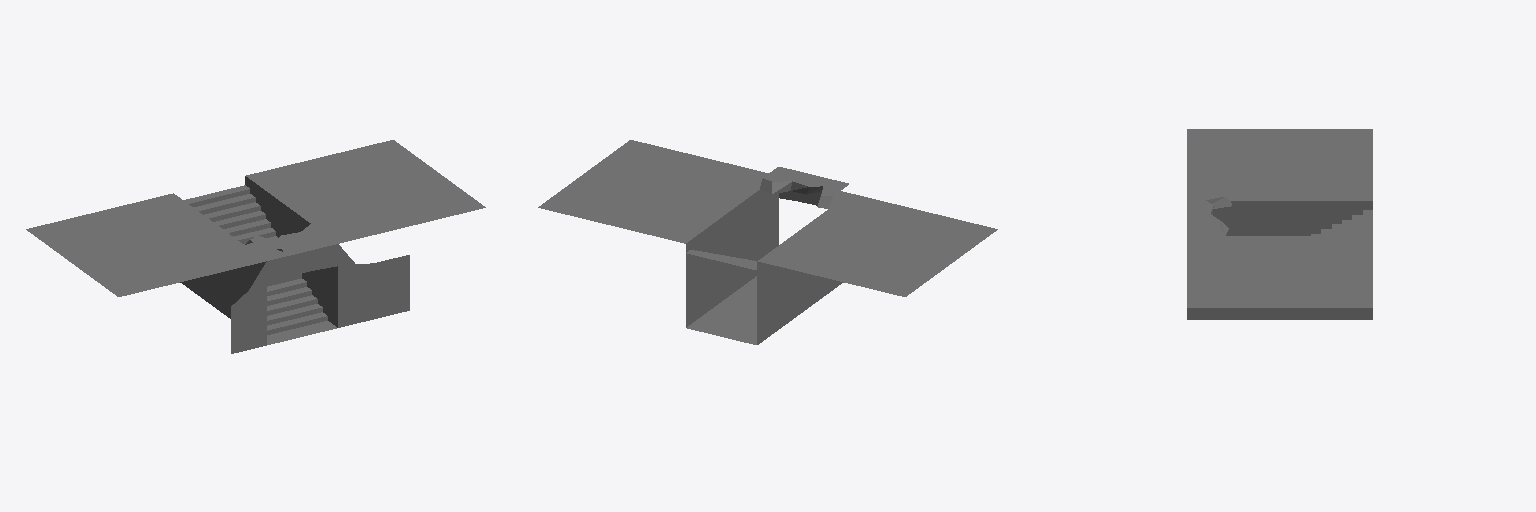
Rendered from catacomb_stairs_1.obj.
The picture shows the model from 3 angles: view 1: azimuth 30°, elevation 25°; view 2: azimuth 150°, elevation 25°; view 3: azimuth 270°, elevation 25°; orthographic projection.
Visible parts, largest first — view 1: pPlane1, pPlane2, pCube1; view 2: pPlane1, pCube1; view 3: pPlane1, pCube1, pPlane2.
Boxes of the visible parts, x1=… form: pPlane1: x1=26, y1=140, x2=485, y2=353; pPlane2: x1=184, y1=185, x2=327, y2=334; pCube1: x1=245, y1=223, x2=337, y2=283; pPlane1: x1=538, y1=140, x2=997, y2=344; pCube1: x1=760, y1=167, x2=849, y2=208; pPlane1: x1=1187, y1=129, x2=1372, y2=319; pCube1: x1=1187, y1=192, x2=1231, y2=235; pPlane2: x1=1311, y1=210, x2=1372, y2=235.
Bounding box in the file's own units: 20.55 × 5 × 9.